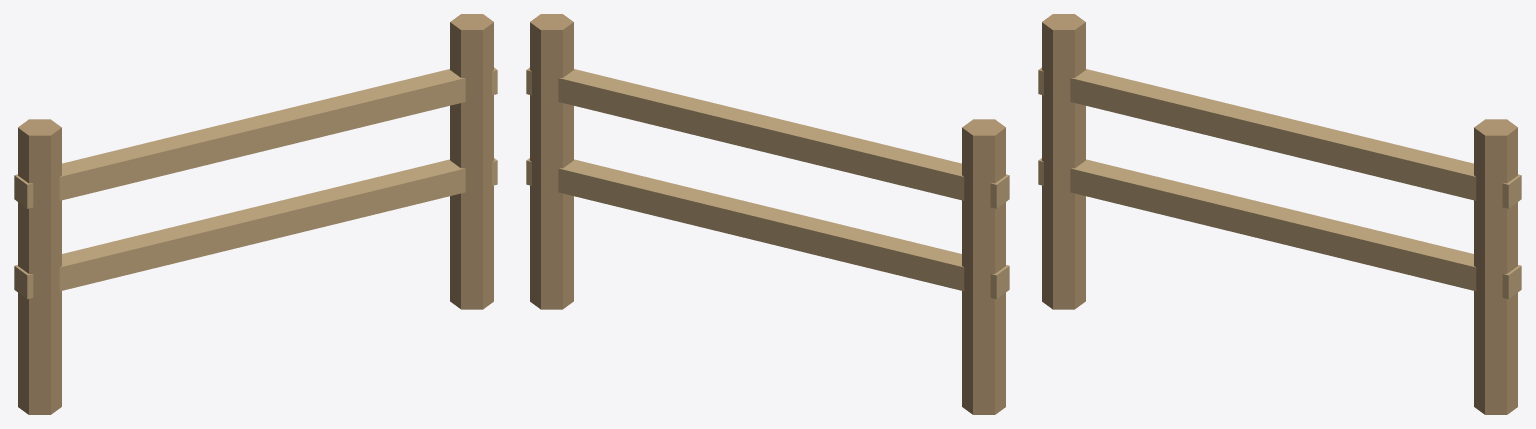
Rendered from fence.glb.
3 views of the same model, side by side, from view 1: azimuth 30°, elevation 25°; view 2: azimuth 150°, elevation 25°; view 3: azimuth 330°, elevation 25° (orthographic).
Visible parts, largest first — view 1: FencePostL; view 2: FencePostL; view 3: FencePostL.
Boxes of the visible parts, left/top/right/bottom form: FencePostL: left=14, top=14, right=497, bottom=414; FencePostL: left=526, top=14, right=1009, bottom=414; FencePostL: left=1038, top=14, right=1521, bottom=414.
Size of the model in its own units: 1.85 by 1.05 by 0.15.
